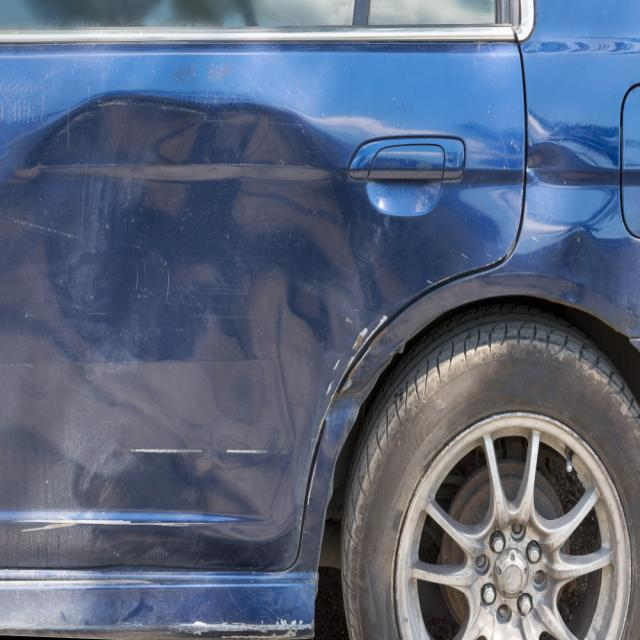Cabossage: (33, 77, 350, 537), (522, 130, 620, 305)
Rayure: (320, 312, 392, 404), (127, 439, 277, 474)
